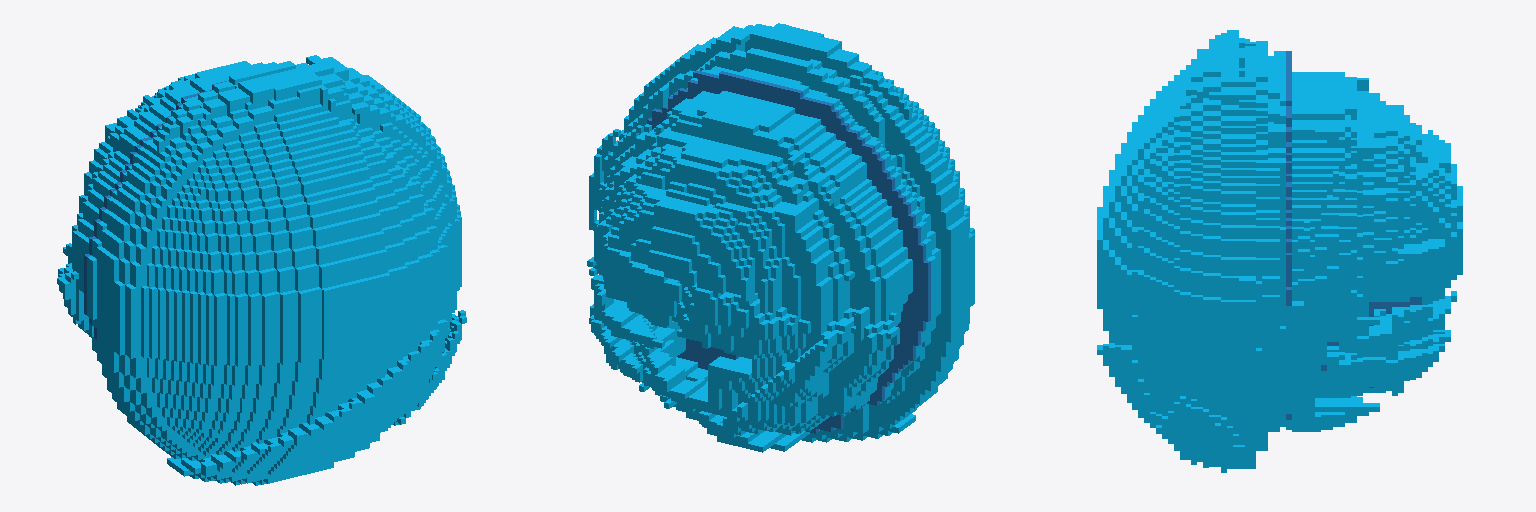
3 views of the same model, side by side, from view 1: azimuth 30°, elevation 25°; view 2: azimuth 150°, elevation 25°; view 3: azimuth 270°, elevation 25° (orthographic).
Bounding box in the file's own units: 67 × 74 × 62.
Materials: 1 (1 with a texture image).